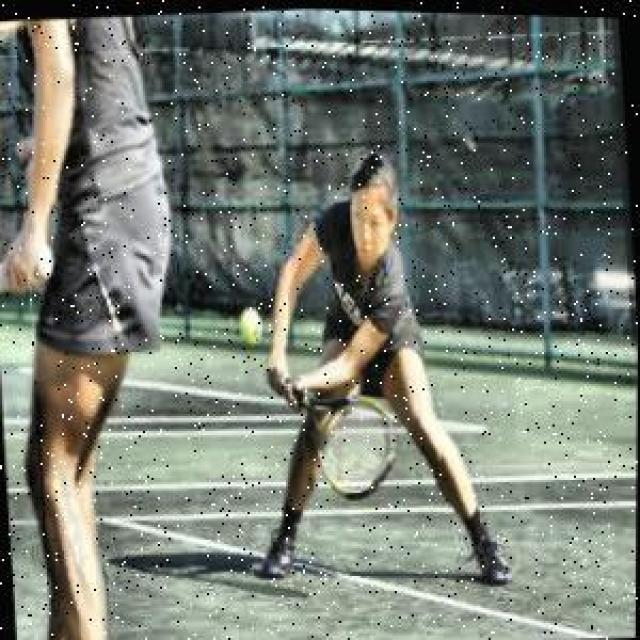tennis-ball: (233, 302, 266, 347)
